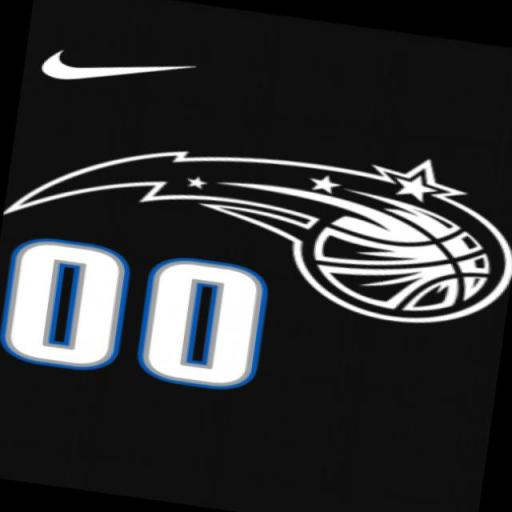Nike: (30, 39, 214, 100)
